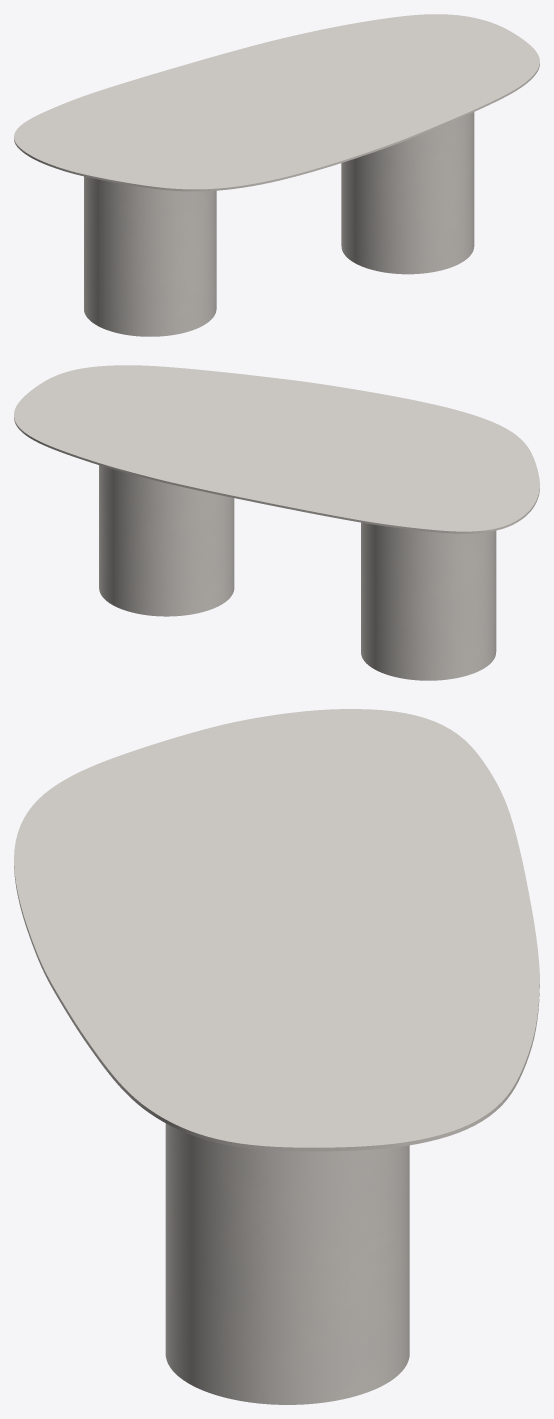
File: pearlwhite_leaf2_facet_stream.glb
The picture shows the model from 3 angles, top to bottom: view 1: azimuth 30°, elevation 25°; view 2: azimuth 150°, elevation 25°; view 3: azimuth 270°, elevation 25°; orthographic projection. The views are drawn at different scales.
Visible parts, largest first — view 1: facet_leaf2, stream; view 2: facet_leaf2, stream; view 3: facet_leaf2, stream.
Boxes of the visible parts, box(x1,y1,x2,y2) form: facet_leaf2: box(14, 14, 539, 191); stream: box(84, 112, 474, 336); facet_leaf2: box(14, 365, 539, 533); stream: box(99, 465, 496, 680); facet_leaf2: box(14, 709, 539, 1151); stream: box(165, 1123, 409, 1404).
Bounding box in the file's own units: 7.5 × 2.52 × 3.8.
Materials: 1 (1 with a texture image).
